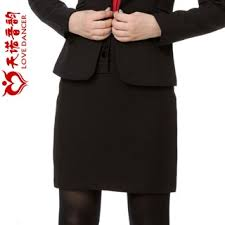F_tailored skirt: (47, 44, 185, 198)
